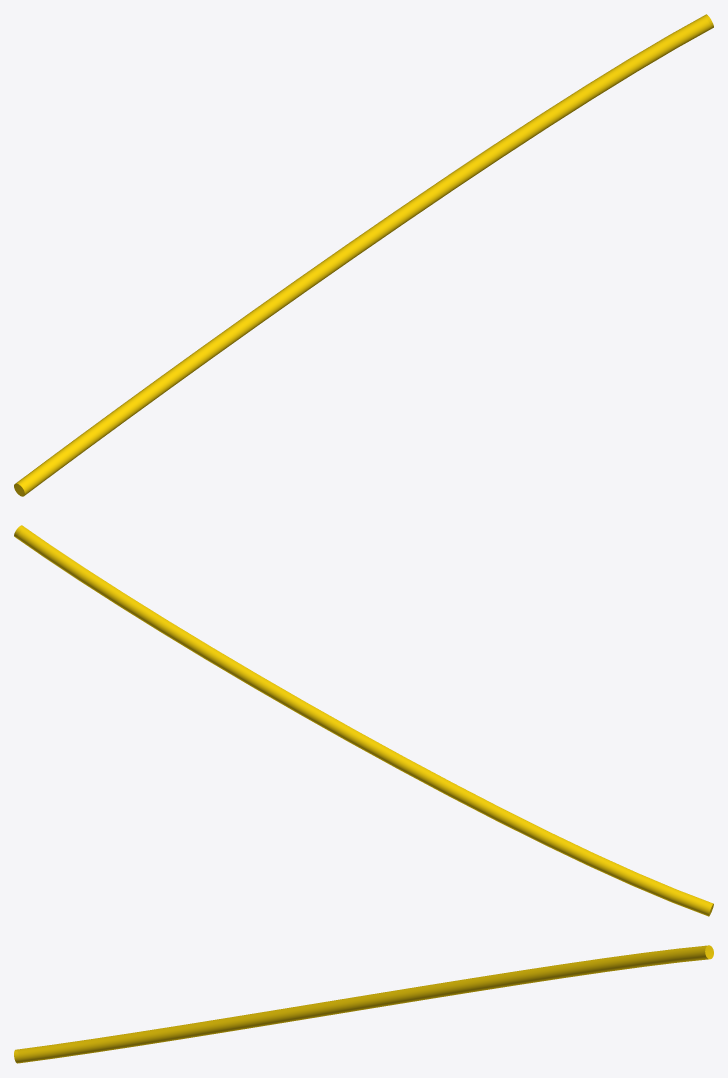
The model's file is Event_421115418_track_146.fbx.
The picture shows the model from 3 angles, top to bottom: view 1: azimuth 30°, elevation 25°; view 2: azimuth 150°, elevation 25°; view 3: azimuth 330°, elevation 25°; orthographic projection. The views are drawn at different scales.
Visible parts, largest first — view 1: Model; view 2: Model; view 3: Model.
Boxes of the visible parts, box(x1,y1,x2,y2) form: Model: box(14, 14, 713, 496); Model: box(14, 525, 713, 916); Model: box(14, 945, 713, 1063).
Size of the model in its own units: 2.2 by 0.8013 by 0.2422.
